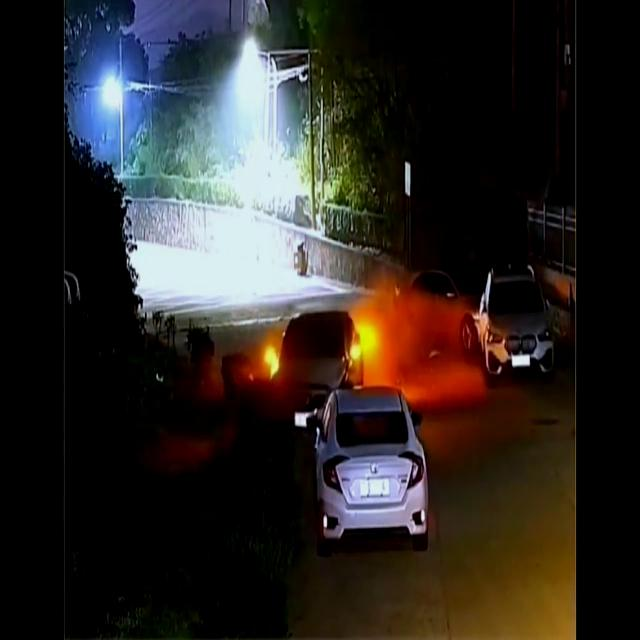accident: (264, 309, 432, 555), (390, 262, 560, 388)
